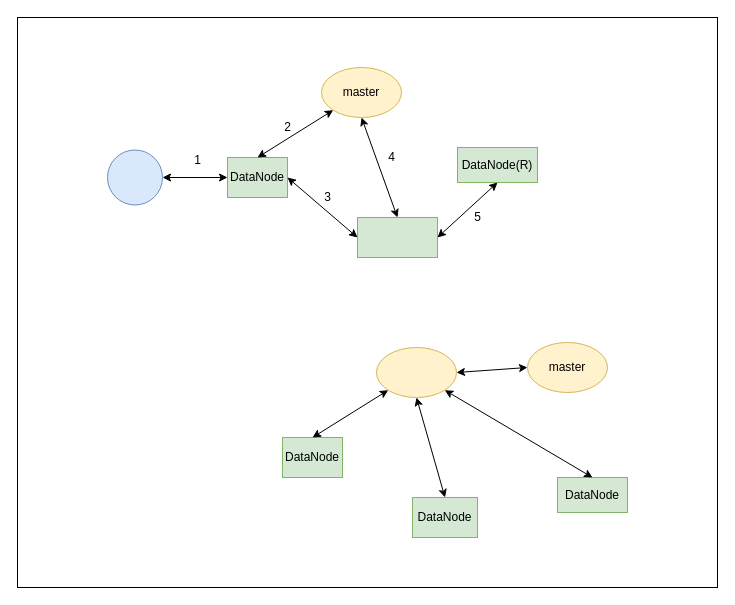
Some shapes in this 735 by 605 pixel diagram are drawn without their labels. The centre of each missing label's shape, as x and y in pixels:
"client" goes at (134,177).
"DataNode(P)" goes at (397,237).
"master(主)" goes at (416,372).
